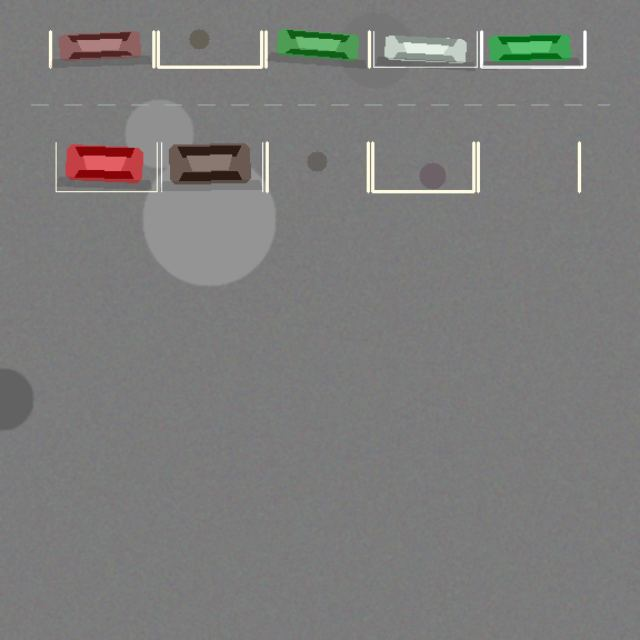space-empty: (267, 142, 368, 191), (372, 142, 473, 191), (478, 142, 579, 191), (158, 31, 261, 67)
space-occupied: (56, 142, 157, 191), (161, 142, 262, 191), (373, 31, 477, 67), (50, 31, 153, 67), (266, 31, 369, 67), (481, 31, 584, 67)
